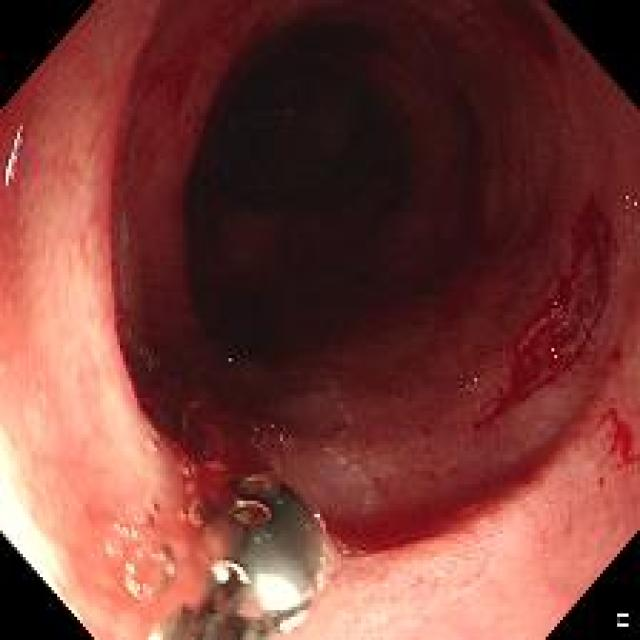blood: (476, 198, 610, 431), (595, 409, 635, 470)
bubbles: (104, 507, 176, 605), (177, 460, 215, 532), (624, 193, 634, 248)
color misalignment: (5, 126, 24, 192), (141, 352, 158, 373), (616, 617, 632, 629), (277, 439, 287, 447)
contrast: (203, 35, 453, 286)
instrument: (146, 478, 327, 640)
saturation: (1, 426, 67, 603)
specularity: (258, 579, 302, 613), (6, 126, 22, 188), (280, 615, 309, 635), (231, 565, 250, 586), (214, 568, 230, 587), (127, 586, 138, 599), (127, 568, 135, 576), (229, 360, 235, 365), (148, 638, 160, 640), (635, 203, 638, 208), (551, 351, 554, 354), (554, 356, 557, 359)
